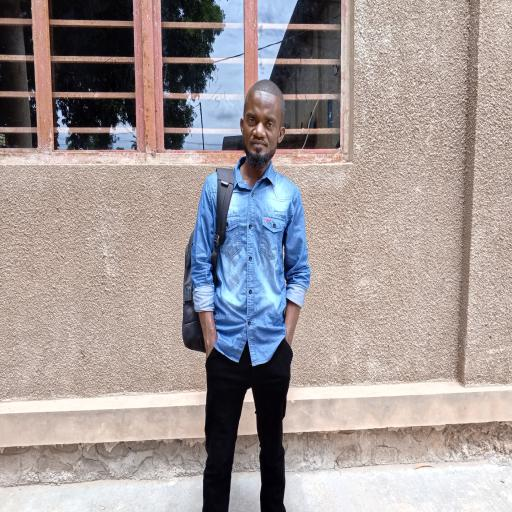MATTHIEU: (238, 78, 290, 175)
